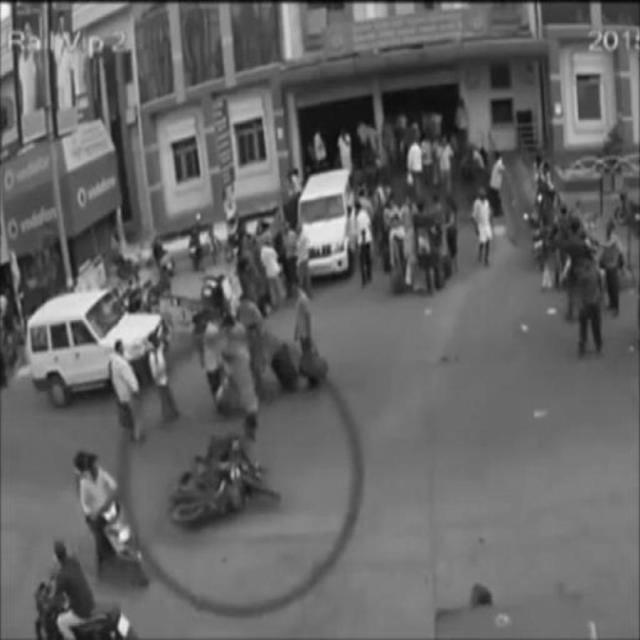person: (220, 317, 266, 419), (574, 252, 609, 362), (112, 338, 142, 439), (286, 280, 318, 372), (474, 186, 492, 266)
vehicle: (28, 290, 168, 403), (169, 421, 283, 529), (71, 448, 149, 588), (34, 540, 136, 640), (296, 161, 357, 277)
